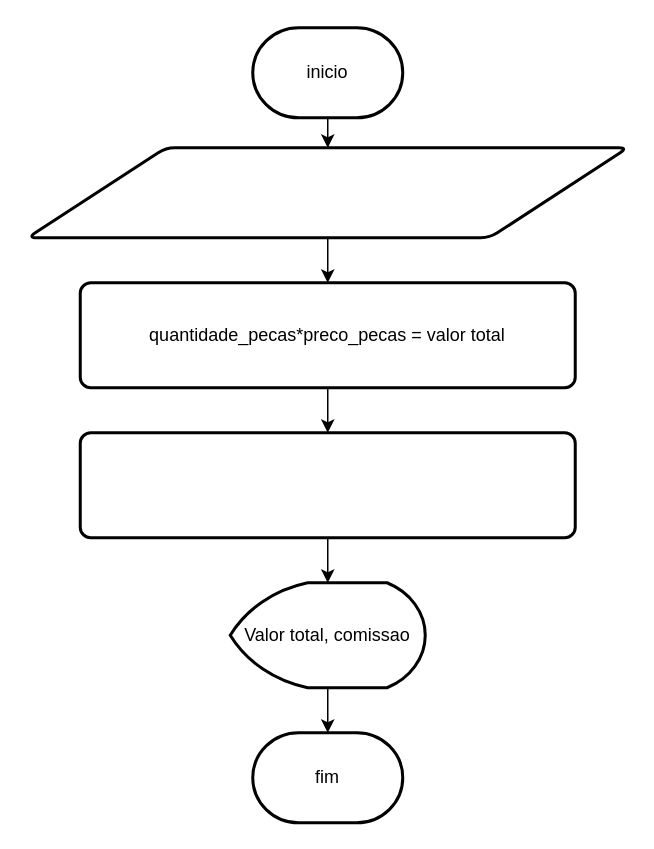
The diagram is 654 pixels wide and 849 high, and some of its shapes have lost their labels. The shapes that lost their labels are listed below. From the top down, each one's centre as x and y in pixels, then its label:
At [327,192]: "quantidade_pecas,preco_pecas,valor total,comissao".
At [327,484]: "valor total*0.05 = comissao".
